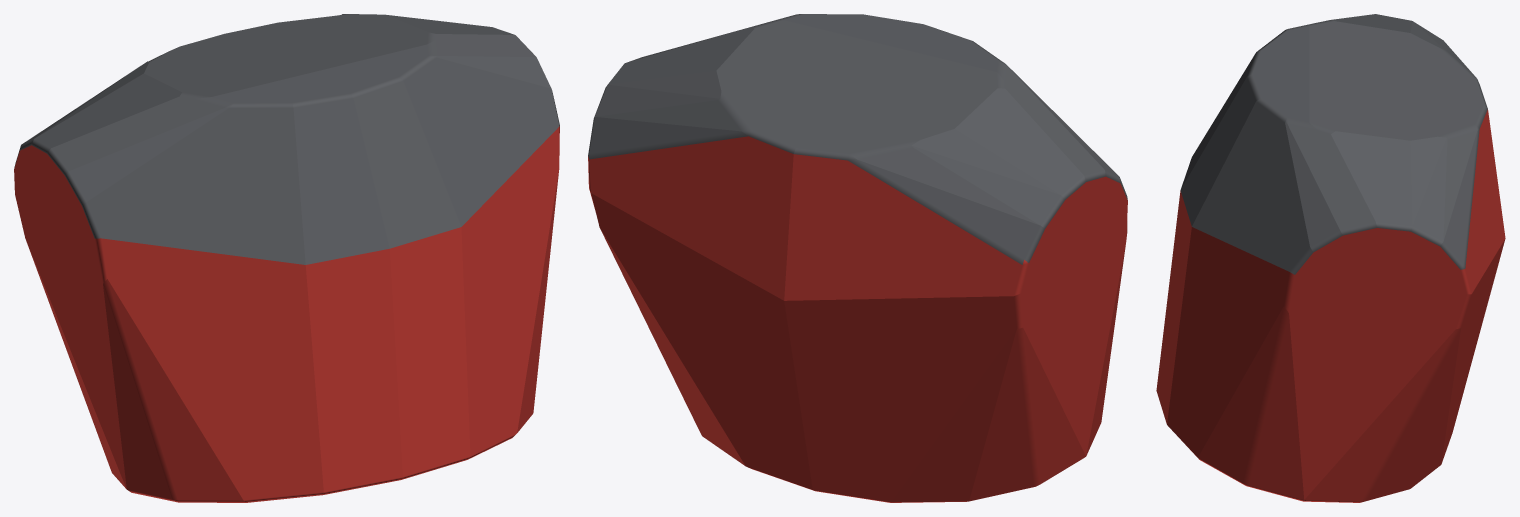
Rendered from SM_SB_Armor_spine_05.fbx.
The picture shows the model from 3 angles, left to right: view 1: azimuth 30°, elevation 25°; view 2: azimuth 150°, elevation 25°; view 3: azimuth 270°, elevation 25°; orthographic projection. The views are drawn at different scales.
Visible parts, largest first — view 1: SM_SB_Armor_spine_05; view 2: SM_SB_Armor_spine_05; view 3: SM_SB_Armor_spine_05.
Part boxes in pixels (x1,y1,x2,y2): SM_SB_Armor_spine_05: (14, 14, 559, 502); SM_SB_Armor_spine_05: (588, 14, 1127, 502); SM_SB_Armor_spine_05: (1156, 14, 1505, 502).
Size of the model in its own units: 49.42 by 34.5 by 39.43.
